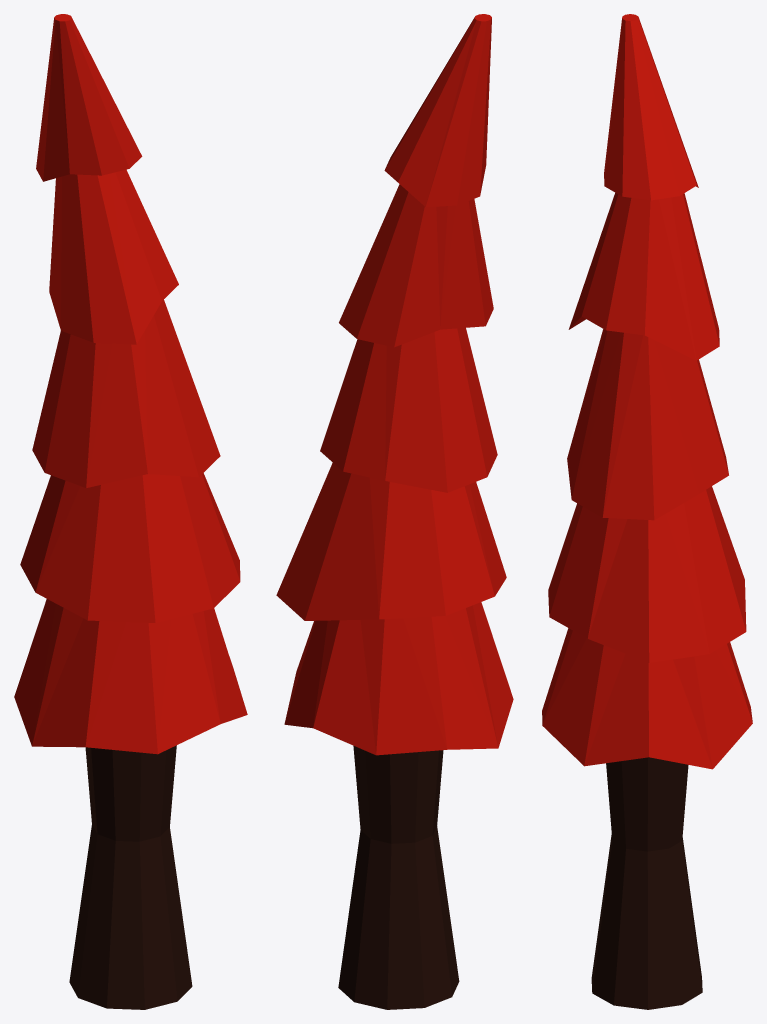
Rendered from t4-orange.obj.
The picture shows the model from 3 angles, left to right: view 1: azimuth 30°, elevation 25°; view 2: azimuth 150°, elevation 25°; view 3: azimuth 270°, elevation 25°; orthographic projection. The views are drawn at different scales.
Visible parts, largest first — view 1: t4-orange_Cylinder.021; view 2: t4-orange_Cylinder.021; view 3: t4-orange_Cylinder.021.
Part boxes in pixels (bbox=[...]): t4-orange_Cylinder.021: bbox=[14, 14, 247, 1009]; t4-orange_Cylinder.021: bbox=[276, 14, 513, 1009]; t4-orange_Cylinder.021: bbox=[542, 14, 752, 1009].
Size of the model in its own units: 2.24 by 10.09 by 2.07.
